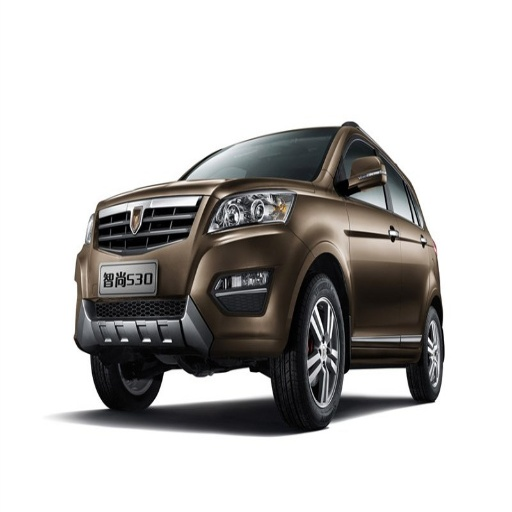front_bumper: (75, 183, 304, 356)
front_glass: (251, 130, 336, 178)
front_left_door: (331, 128, 401, 335)
